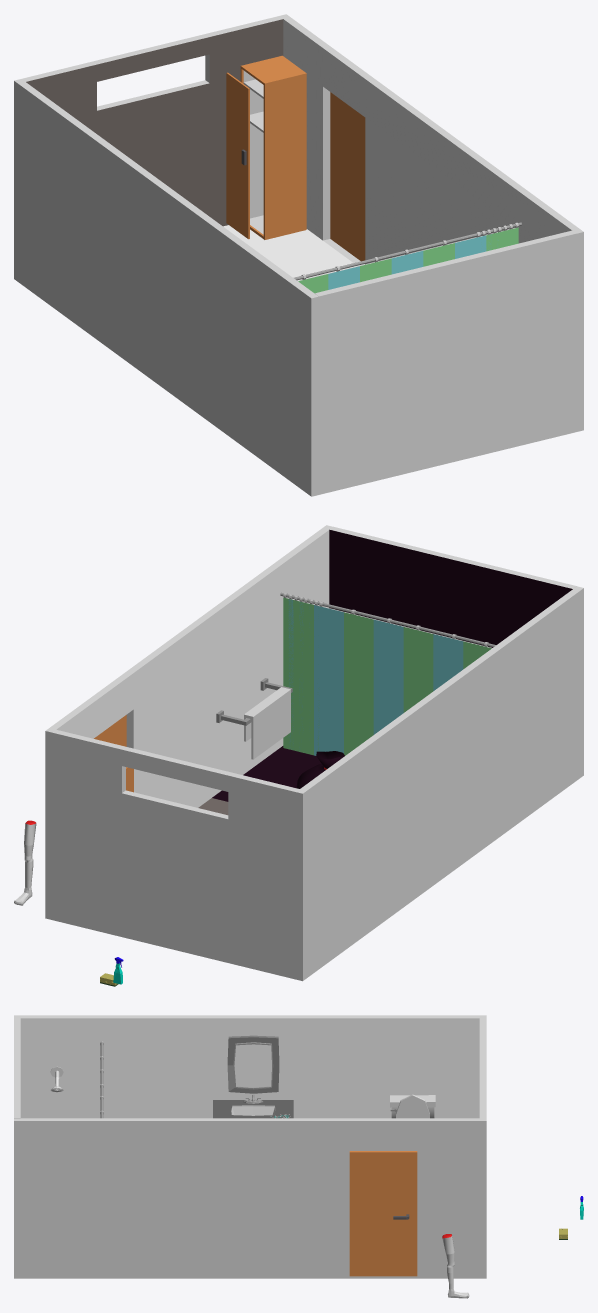
File: BathroomMaster.fbx
3 renders of one model, top to bottom at view 1: azimuth 30°, elevation 25°; view 2: azimuth 150°, elevation 25°; view 3: azimuth 270°, elevation 25°, orthographic. The views are drawn at different scales.
Parts seen in each view (by area): view 1: BathroomRoom, Shelf 1.004, door handle, ShowerCurtain, Handle.004; view 2: BathroomRoom, ShowerCurtain, Towel_Rack, ShowerCurtain.001, Cylinder.004, Garbage; view 3: BathroomRoom, door handle, Mirror, Vanity, Toilet, Cylinder.004.
Part boxes in pixels (x1=…): BathroomRoom: x1=14, y1=14, x2=583, y2=496; Shelf 1.004: x1=240, y1=55, x2=306, y2=239; door handle: x1=330, y1=92, x2=365, y2=261; ShowerCurtain: x1=294, y1=222, x2=521, y2=293; Handle.004: x1=226, y1=72, x2=249, y2=239; BathroomRoom: x1=45, y1=525, x2=583, y2=981; ShowerCurtain: x1=280, y1=592, x2=495, y2=755; Towel_Rack: x1=216, y1=678, x2=292, y2=759; ShowerCurtain.001: x1=283, y1=594, x2=324, y2=752; Cylinder.004: x1=14, y1=820, x2=36, y2=905; Garbage: x1=296, y1=751, x2=344, y2=788; BathroomRoom: x1=14, y1=1015, x2=486, y2=1278; door handle: x1=349, y1=1151, x2=417, y2=1276; Mirror: x1=227, y1=1035, x2=279, y2=1093; Vanity: x1=213, y1=1094, x2=293, y2=1118; Toilet: x1=390, y1=1094, x2=435, y2=1118; Cylinder.004: x1=442, y1=1234, x2=469, y2=1298.
Bounding box in the file's own units: 4.31 × 2.63 × 8.44.
